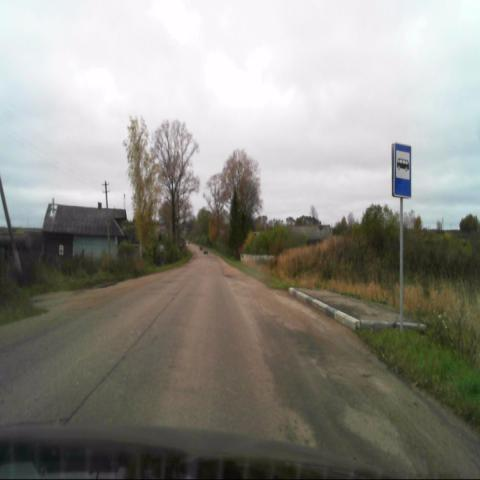5_16: (393, 142, 412, 198)
